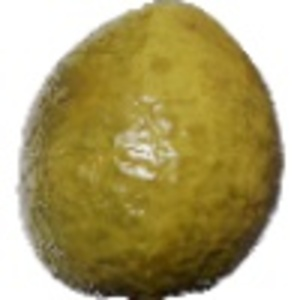goiaba: (11, 3, 285, 293)
